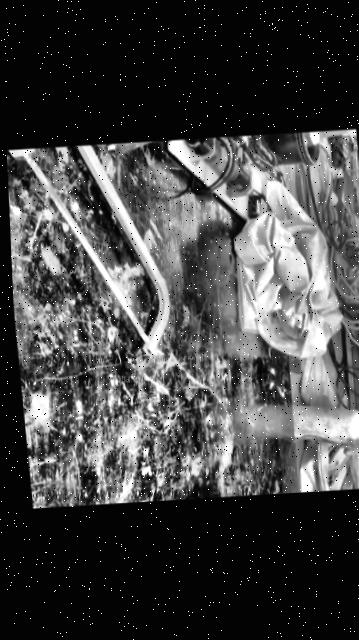pot: (260, 132, 317, 164)
